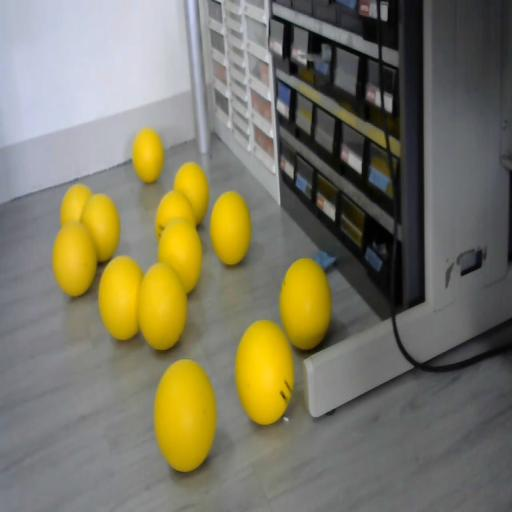FUEL: (153, 356, 217, 470), (234, 318, 295, 424), (279, 258, 331, 351), (137, 262, 187, 350), (98, 255, 143, 341), (52, 220, 97, 298), (210, 191, 252, 265), (173, 162, 210, 226), (132, 128, 164, 183), (60, 184, 93, 228)
